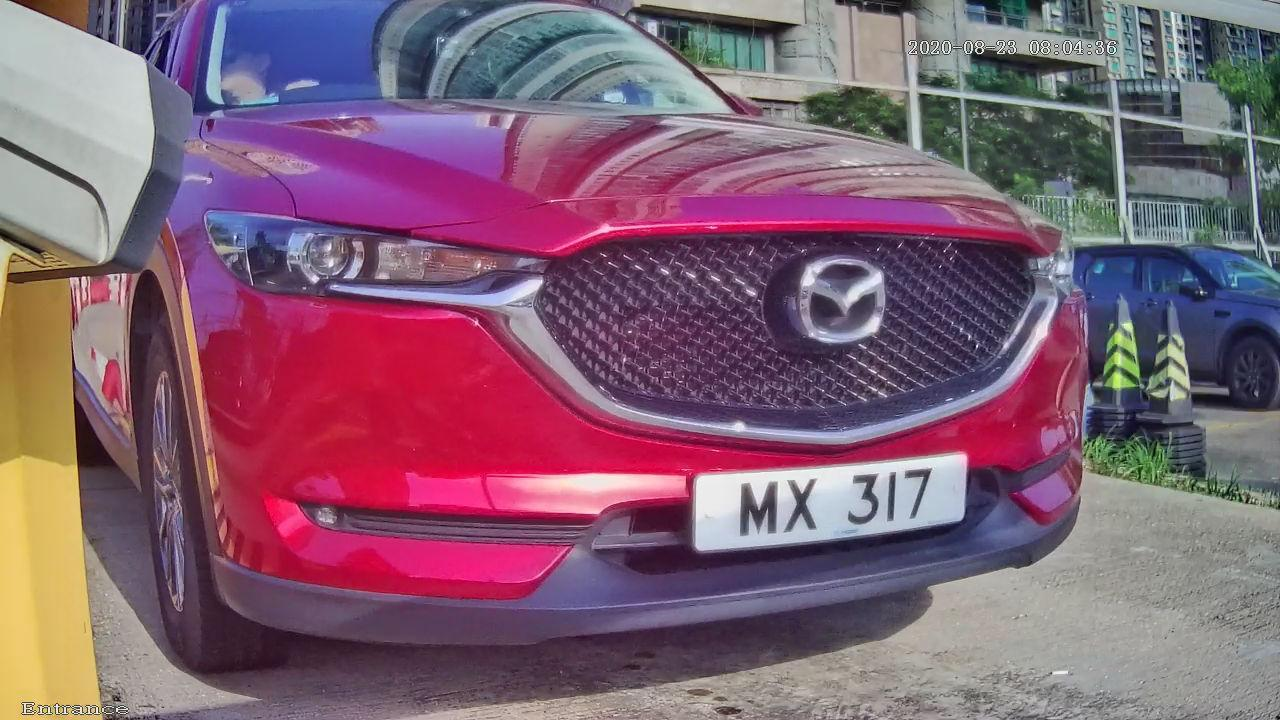Car: (18, 7, 1178, 714)
License Plate: (675, 444, 989, 560)
